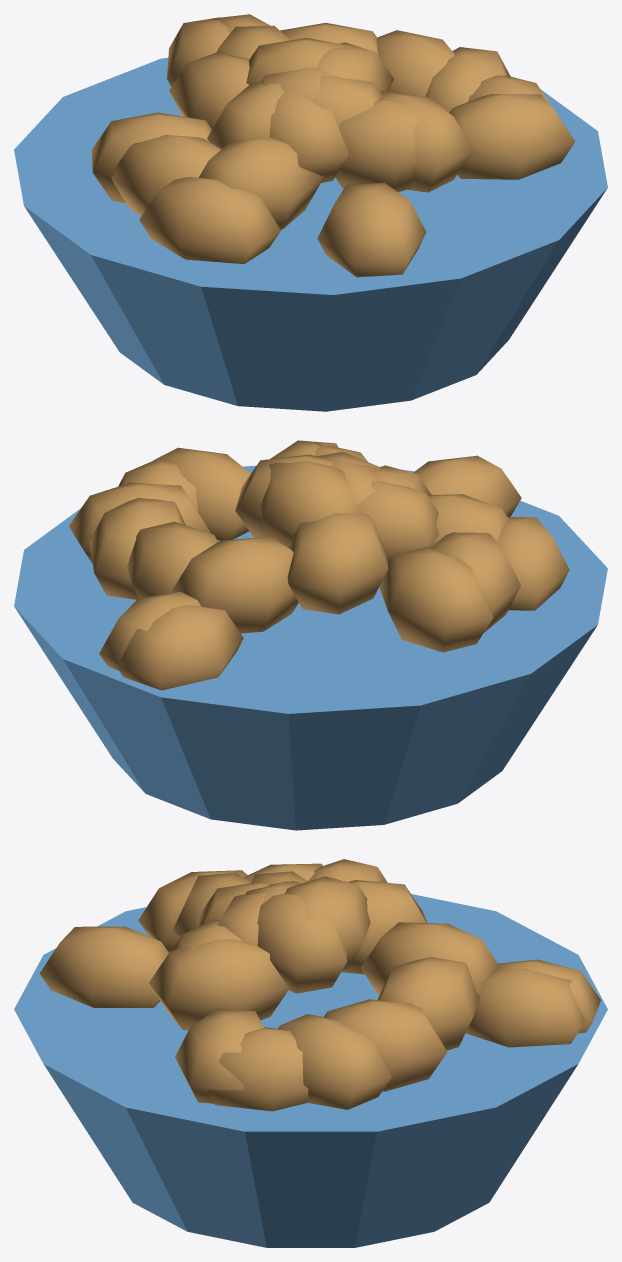
File: peanut.glb
3 renders of one model, top to bottom at view 1: azimuth 30°, elevation 25°; view 2: azimuth 150°, elevation 25°; view 3: azimuth 270°, elevation 25°, orthographic.
Visible parts, largest first — view 1: peanut; view 2: peanut; view 3: peanut.
Boxes of the visible parts, box(x1,y1,x2,y2) form: peanut: box(14, 14, 607, 411); peanut: box(14, 440, 607, 830); peanut: box(14, 859, 607, 1247).
Bounding box in the file's own units: 0.234 × 0.1253 × 0.24.
